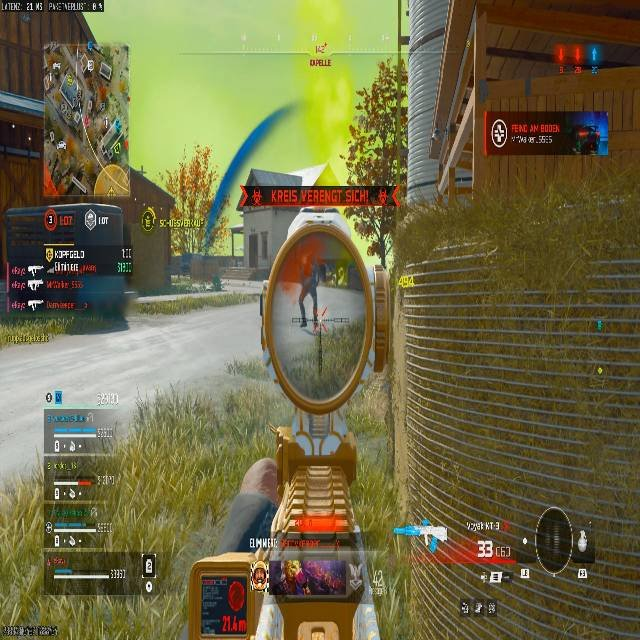player: (296, 257, 320, 327), (575, 125, 600, 154)
